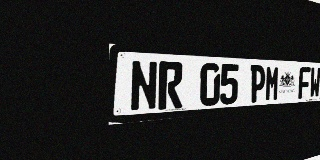0: (200, 63, 221, 107)
5: (220, 64, 239, 105)
F: (298, 67, 311, 99)
M: (265, 65, 280, 102)
N: (130, 60, 158, 112)
P: (249, 65, 266, 103)
R: (158, 61, 183, 110)
W: (309, 67, 320, 98)
